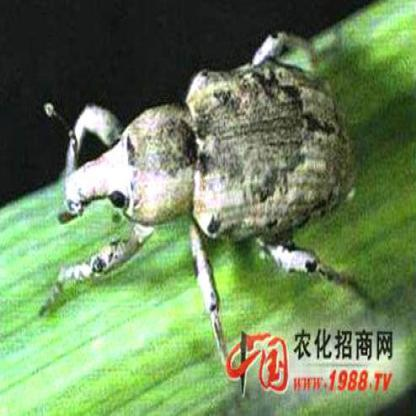rice-bug: (62, 34, 353, 264)
